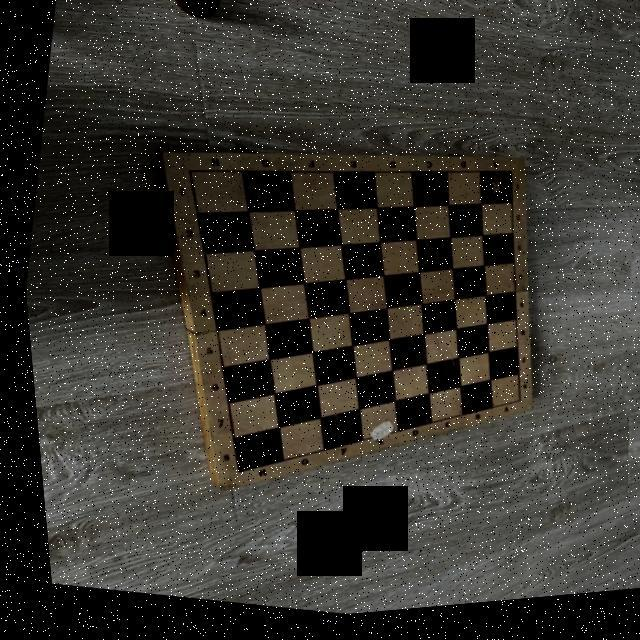chess-table-corners: (220, 466, 240, 484), (180, 168, 194, 180), (501, 176, 514, 186), (506, 404, 518, 414)
